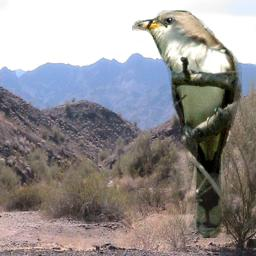Cuckoo: (132, 10, 242, 238)
